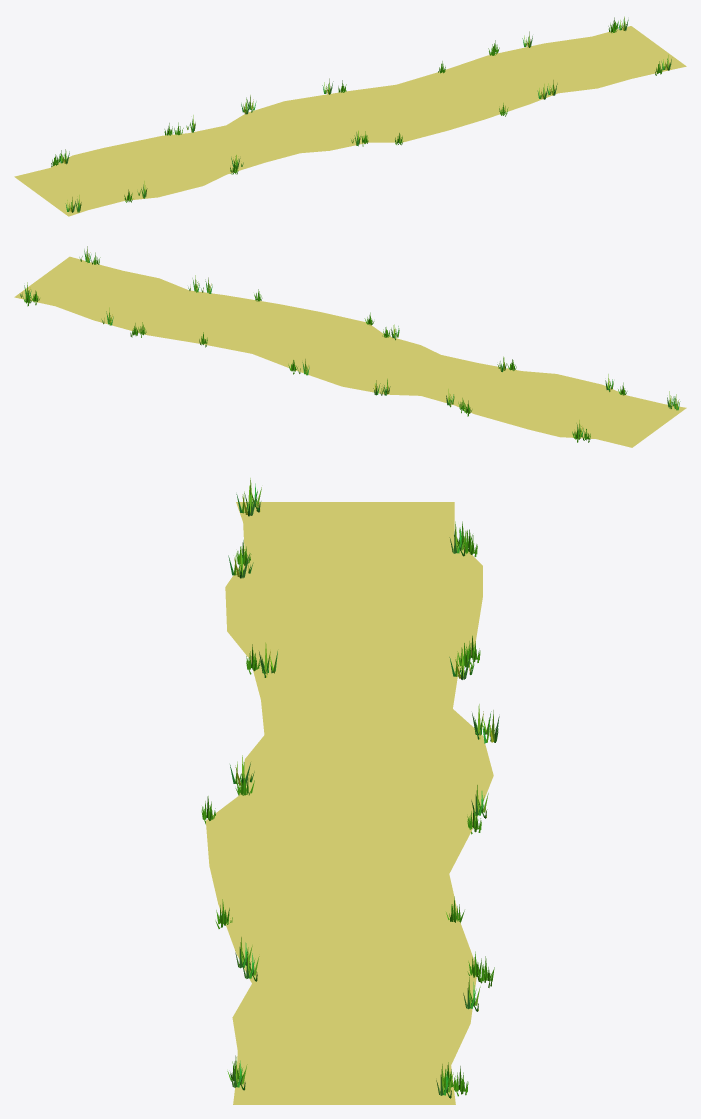
Rendered from center1.fbx.
3 renders of one model, top to bottom at view 1: azimuth 30°, elevation 25°; view 2: azimuth 150°, elevation 25°; view 3: azimuth 270°, elevation 25°, orthographic. The views are drawn at different scales.
Visible parts, largest first — view 1: Plane; view 2: Plane; view 3: Plane.
Part boxes in pixels (box(x1,y1,x2,y2)): Plane: box(14, 26, 686, 216); Plane: box(14, 256, 686, 447); Plane: box(206, 502, 493, 1104).
Bounding box in the file's own units: 12824 × 390 × 2683.
